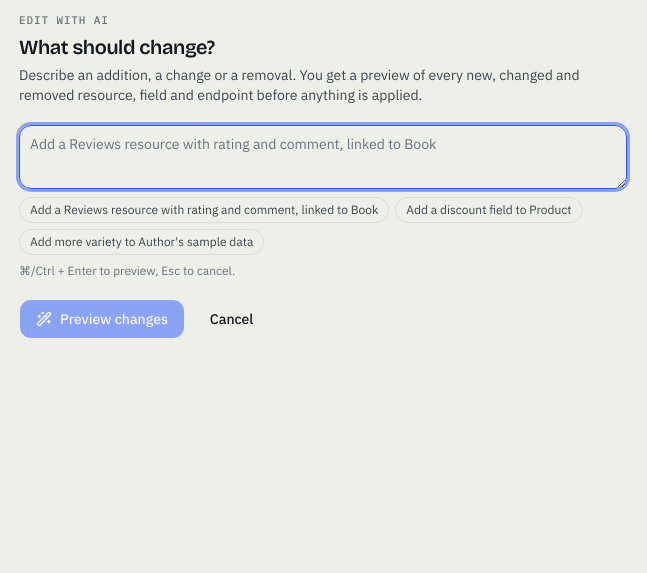
Test: names a removal in the apply button and renders its consequence with a real record count
In the text box named "Describe what should change": x=323, y=156 [19, 124, 627, 188], type "Add subtitle, remove title"
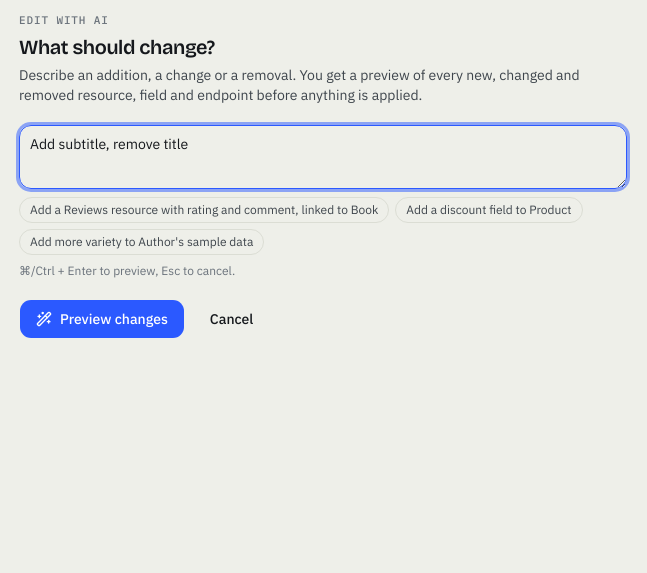
Click the button "Preview changes": x=102, y=318 [19, 298, 185, 338]
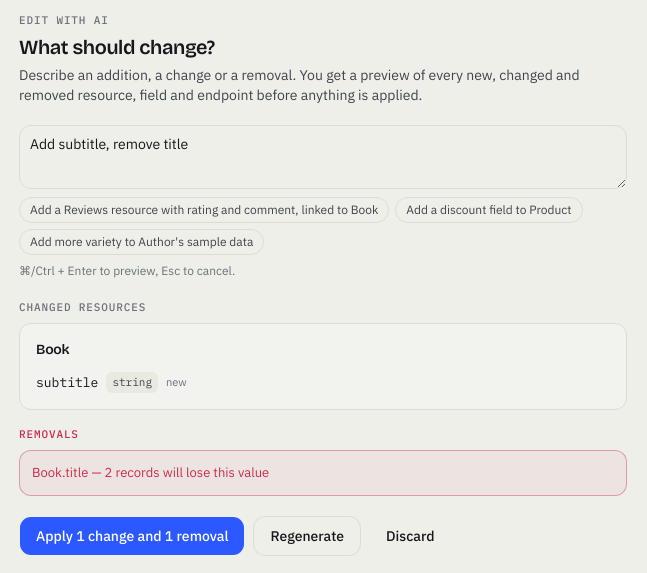
expect the text "Book.title — 2 records will lose this value" is shown: met, box [19, 450, 627, 496]
expect the button "Apply 1 change and 1 removal" is shown: met, box [19, 516, 246, 556]
